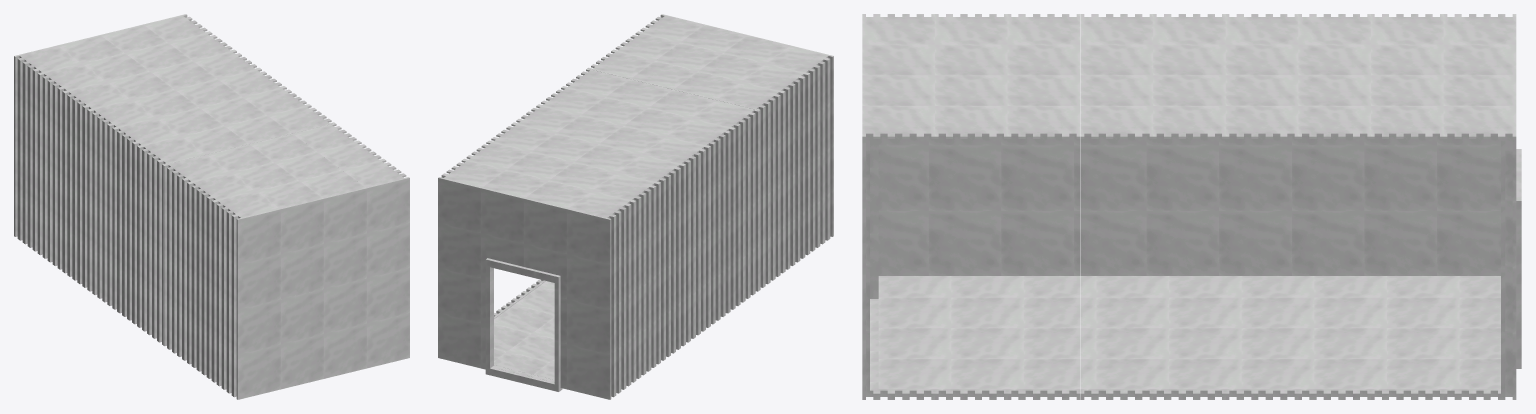
Rendered from TempControl-Container-Larger_Half.fbx.
The picture shows the model from 3 angles, left to right: view 1: azimuth 30°, elevation 25°; view 2: azimuth 150°, elevation 25°; view 3: azimuth 270°, elevation 25°; orthographic projection. The views are drawn at different scales.
Visible parts, largest first — view 1: node_id8 (×2), node_id9; view 2: node_id9 (×2), node_id8 (×2); view 3: node_id9 (×2), node_id8 (×2).
Boxes of the visible parts, box(x1,y1,x2,y2) form: node_id8 (×2): box(163, 123, 409, 399); node_id9: box(14, 14, 334, 344); node_id9 (×2): box(438, 68, 759, 399); node_id8 (×2): box(587, 14, 833, 290); node_id9 (×2): box(1080, 14, 1521, 399); node_id8 (×2): box(862, 14, 1080, 399).
Size of the model in its own units: 0.5039 by 0.512 by 1.14.
Materials: 4 (4 with a texture image).
